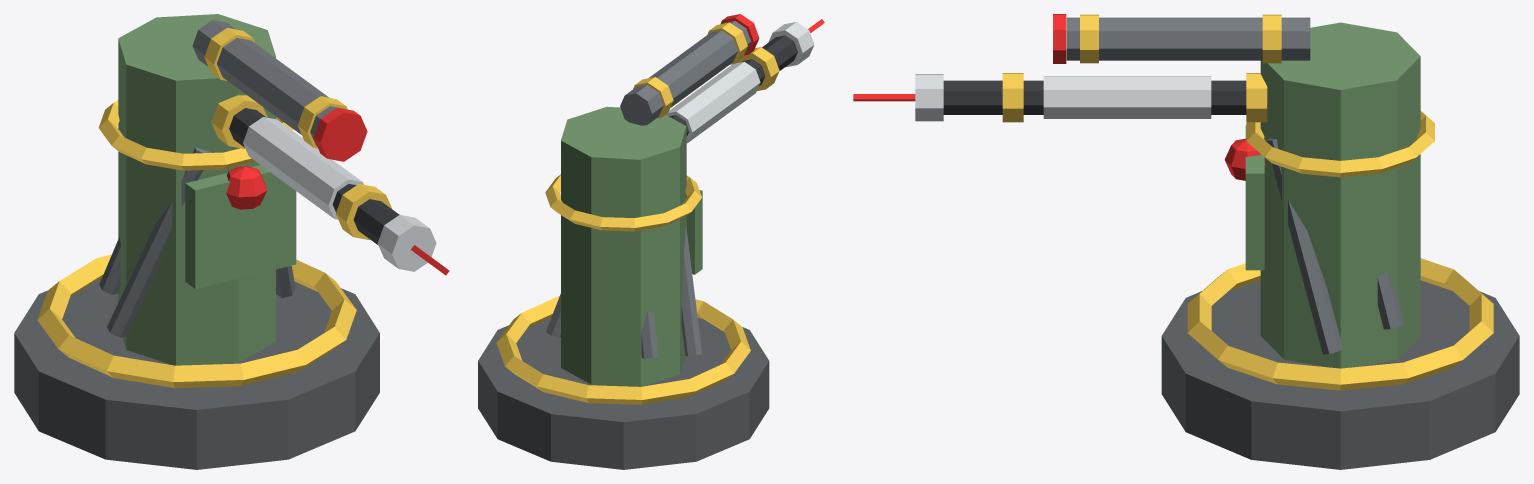
File: TD_SniperTower_T3.fbx
The picture shows the model from 3 angles, left to right: view 1: azimuth 30°, elevation 25°; view 2: azimuth 150°, elevation 25°; view 3: azimuth 270°, elevation 25°; orthographic projection. The views are drawn at different scales.
Parts seen in each view (by area): view 1: TD_SniperTower_T3_Base, TD_SniperTower_T3_Body, TD_SniperTower_T3_GoldBasePrecisionRing, TD_SniperTower_T3_GreenArmorPlate, TD_SniperTower_T3_Scope_Master, TD_SniperTower_T3_SilverBarrelCore, TD_SniperTower_T3_Support_01, TD_SniperTower_T3_GoldBodyRing, TD_SniperTower_T3_MuzzleTip, TD_SniperTower_T3_RedLens_Master, TD_SniperTower_T3_PremiumLongBarrel, TD_SniperTower_T3_RedTargetCore (+6 smaller); view 2: TD_SniperTower_T3_Body, TD_SniperTower_T3_Base, TD_SniperTower_T3_GoldBasePrecisionRing, TD_SniperTower_T3_Scope_Master, TD_SniperTower_T3_SilverBarrelCore, TD_SniperTower_T3_GoldBodyRing, TD_SniperTower_T3_Support_01, TD_SniperTower_T3_PremiumLongBarrel, TD_SniperTower_T3_GreenArmorPlate, TD_SniperTower_T3_MuzzleTip, TD_SniperTower_T3_GoldPrecisionRing_Front, TD_SniperTower_T3_Support_03 (+4 smaller); view 3: TD_SniperTower_T3_Body, TD_SniperTower_T3_Base, TD_SniperTower_T3_GoldBasePrecisionRing, TD_SniperTower_T3_Scope_Master, TD_SniperTower_T3_SilverBarrelCore, TD_SniperTower_T3_PremiumLongBarrel, TD_SniperTower_T3_GoldBodyRing, TD_SniperTower_T3_Support_02, TD_SniperTower_T3_GreenArmorPlate, TD_SniperTower_T3_MuzzleTip, TD_SniperTower_T3_GoldPrecisionRing_Front, TD_SniperTower_T3_Support_04 (+5 smaller).
Part boxes in pixels (x1,y1,x2,y2): TD_SniperTower_T3_Base: (14,279,379,469); TD_SniperTower_T3_Body: (118,14,275,365); TD_SniperTower_T3_GoldBasePrecisionRing: (37,254,356,388); TD_SniperTower_T3_GreenArmorPlate: (185,165,296,288); TD_SniperTower_T3_Scope_Master: (192,20,344,146); TD_SniperTower_T3_SilverBarrelCore: (243,117,363,219); TD_SniperTower_T3_Support_01: (107,147,212,337); TD_SniperTower_T3_GoldBodyRing: (98,100,292,170); TD_SniperTower_T3_MuzzleTip: (377,215,436,271); TD_SniperTower_T3_RedLens_Master: (313,107,367,161); TD_SniperTower_T3_PremiumLongBarrel: (229,108,399,244); TD_SniperTower_T3_RedTargetCore: (226,166,266,209); TD_SniperTower_T3_Body: (561,106,686,386); TD_SniperTower_T3_Base: (478,317,769,469); TD_SniperTower_T3_GoldBasePrecisionRing: (496,296,750,404); TD_SniperTower_T3_Scope_Master: (620,21,751,125); TD_SniperTower_T3_SilverBarrelCore: (666,61,760,143); TD_SniperTower_T3_GoldBodyRing: (545,174,701,231); TD_SniperTower_T3_Support_01: (681,225,701,356); TD_SniperTower_T3_PremiumLongBarrel: (669,35,797,136); TD_SniperTower_T3_GreenArmorPlate: (686,190,702,274); TD_SniperTower_T3_MuzzleTip: (768,22,814,67); TD_SniperTower_T3_GoldPrecisionRing_Front: (736,47,779,90); TD_SniperTower_T3_Support_03: (641,311,658,358); TD_SniperTower_T3_Body: (1260,22,1420,368); TD_SniperTower_T3_Base: (1161,280,1519,469); TD_SniperTower_T3_GoldBasePrecisionRing: (1187,258,1493,390); TD_SniperTower_T3_Scope_Master: (1066,17,1310,60); TD_SniperTower_T3_SilverBarrelCore: (1043,76,1211,118); TD_SniperTower_T3_PremiumLongBarrel: (943,80,1268,114); TD_SniperTower_T3_GoldBodyRing: (1246,111,1434,177); TD_SniperTower_T3_Support_02: (1266,138,1342,354); TD_SniperTower_T3_GreenArmorPlate: (1245,125,1264,270); TD_SniperTower_T3_MuzzleTip: (915,74,943,121); TD_SniperTower_T3_GoldPrecisionRing_Front: (1002,73,1023,122); TD_SniperTower_T3_Support_04: (1377,271,1403,329).
Size of the model in its own units: 0.94 by 1.1 by 1.75.
